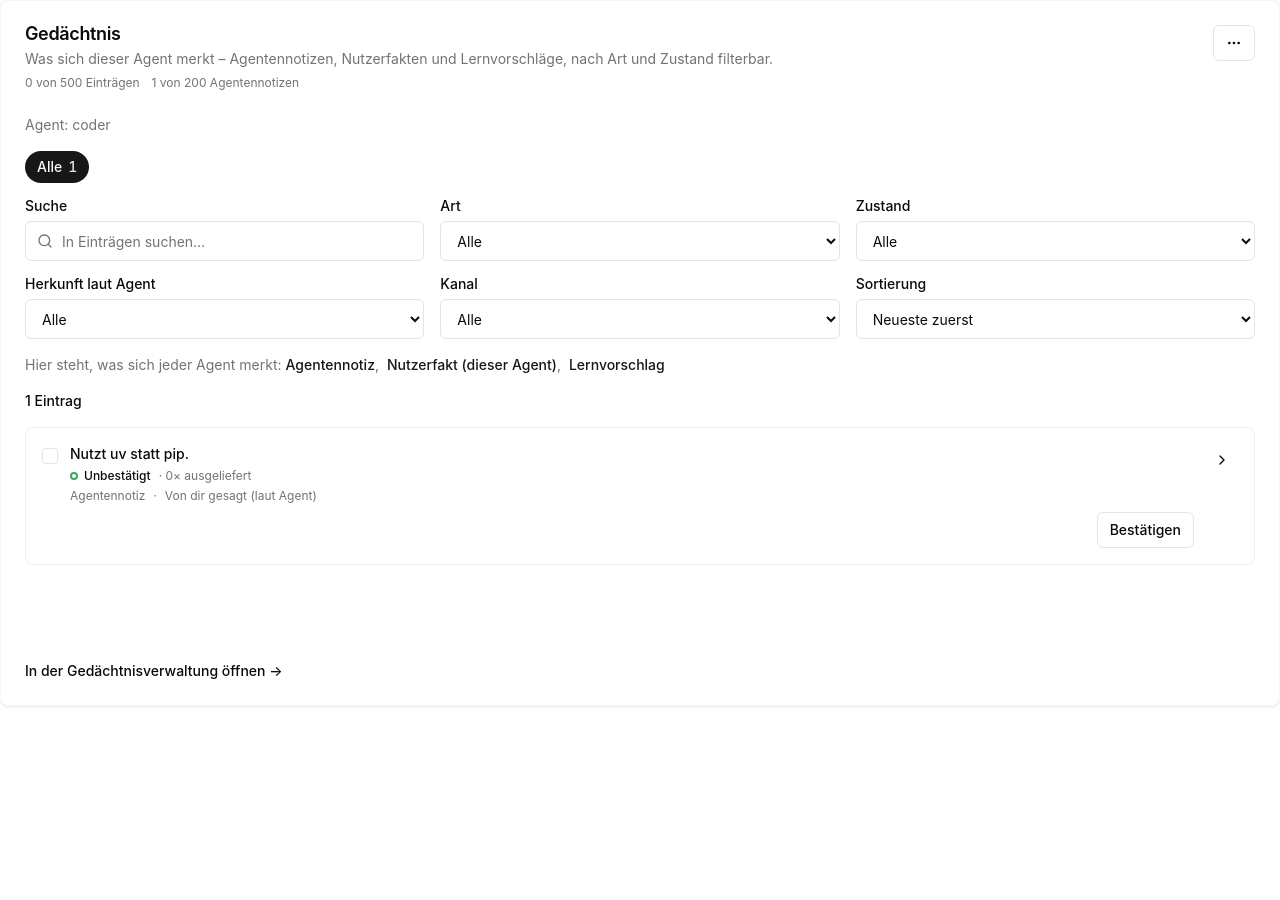
Test: AgentMemoryCard (C5b-2, Spec §6.6) › Chevron je Zeile öffnet das Detail-Sheet über ?entry= (kein toter Knopf)
Click the link with test id "open-detail" at point(1222, 460), box [1214, 452, 1230, 468]
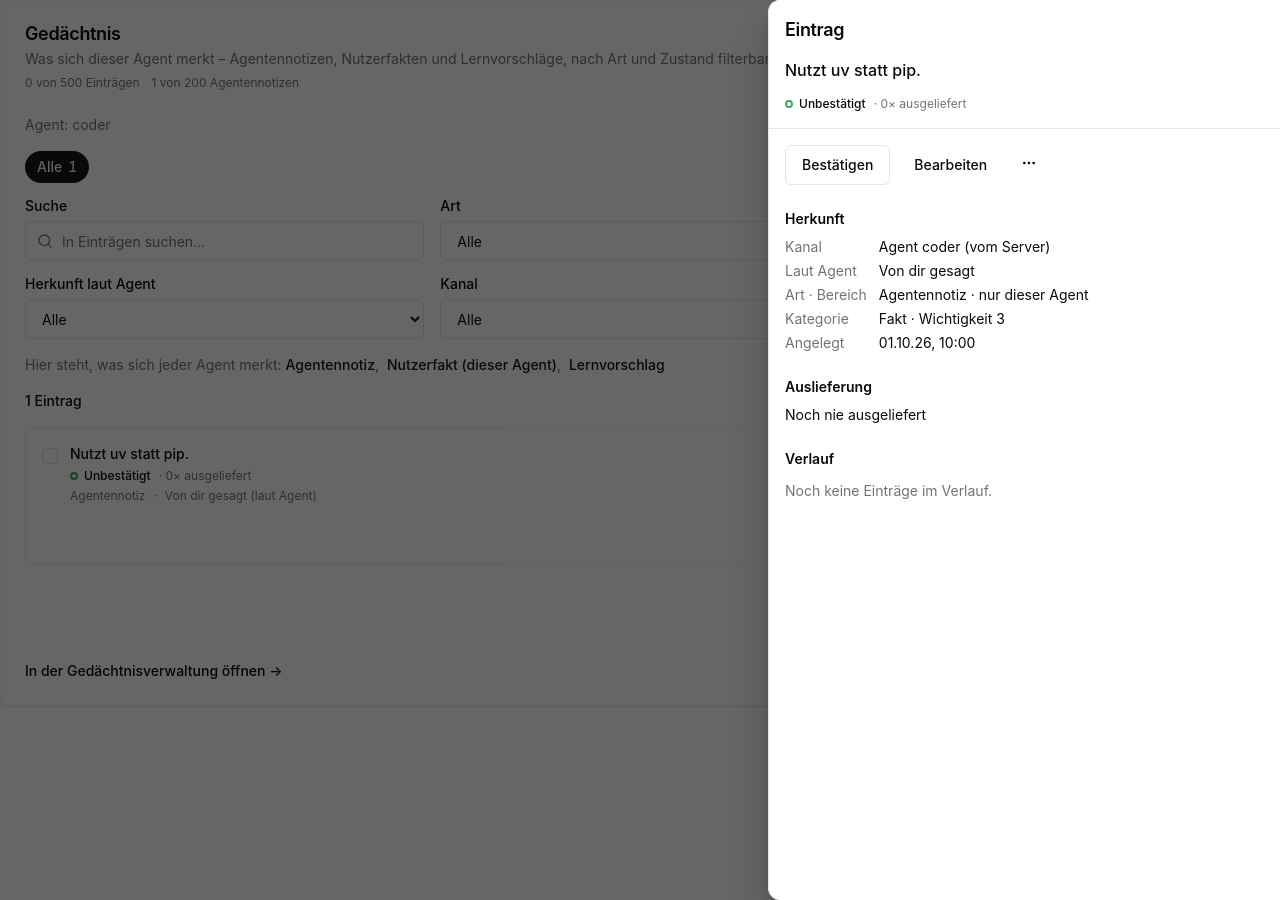
Expected: the text with test id "detail-fact" reads "Nutzt uv statt pip.", [785, 60, 921, 80]
Press Escape in the dialog with test id "memory-detail-sheet", box [768, 0, 1279, 899]
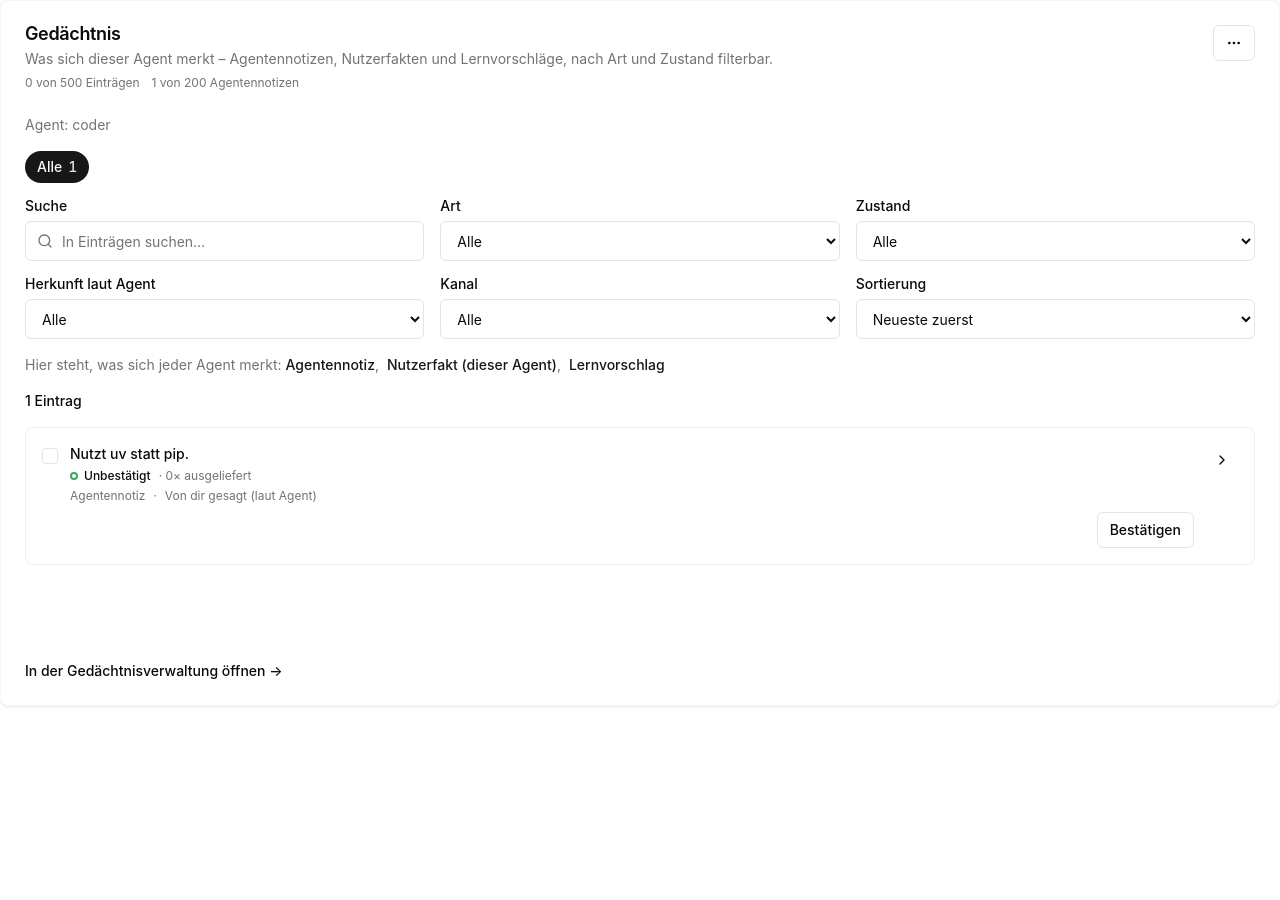
Expected: the dialog with test id "memory-detail-sheet" is gone
